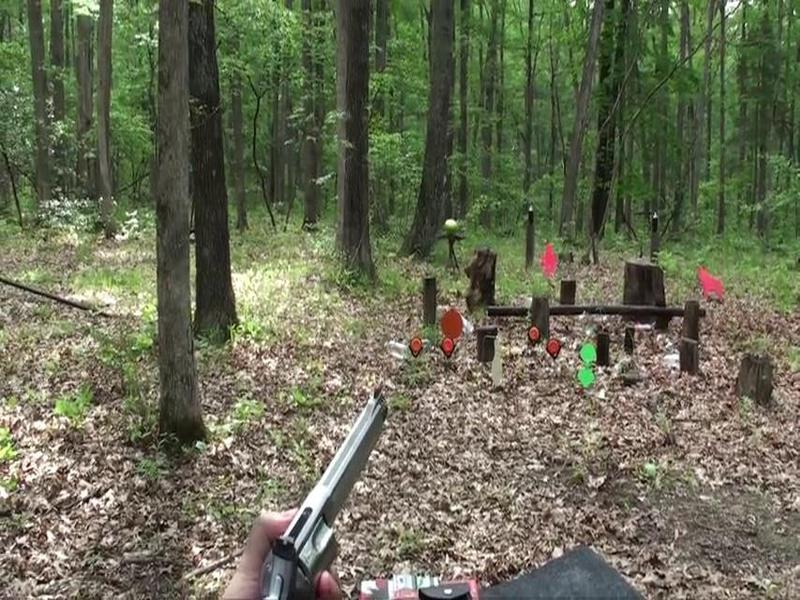Revolver: (235, 382, 406, 600)
